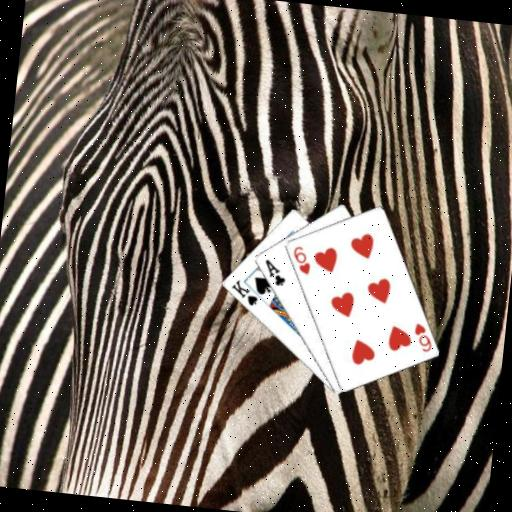6H: (288, 242, 314, 277), (409, 320, 435, 354)
AC: (259, 256, 289, 289)
KS: (226, 277, 261, 309)
